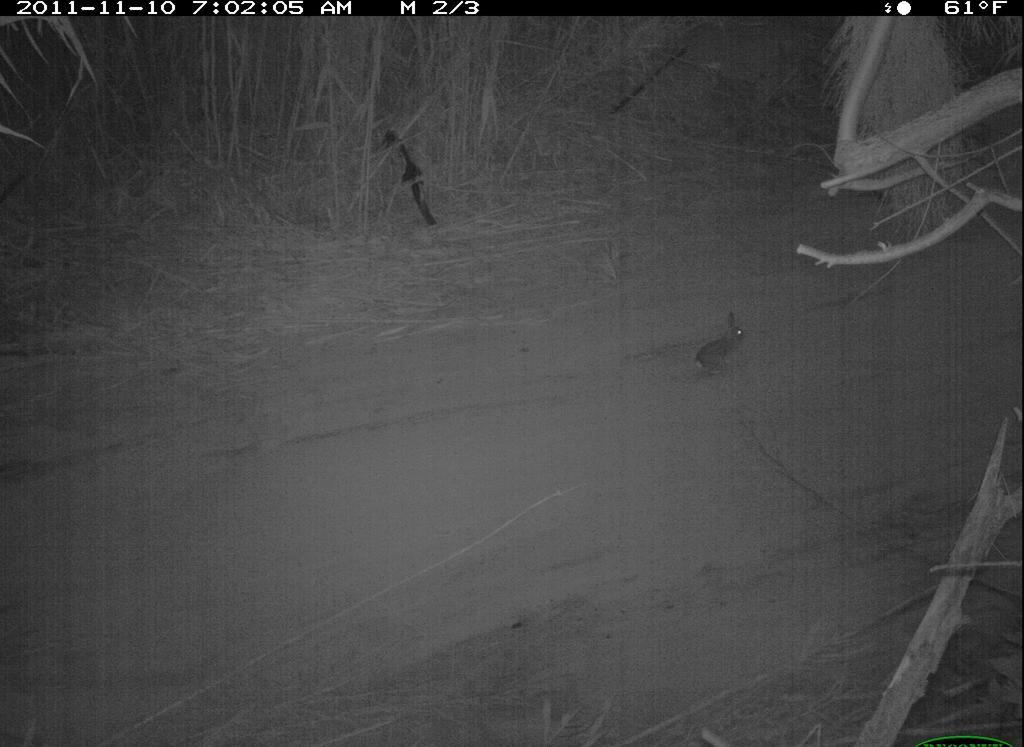rabbit: (685, 289, 772, 397)
